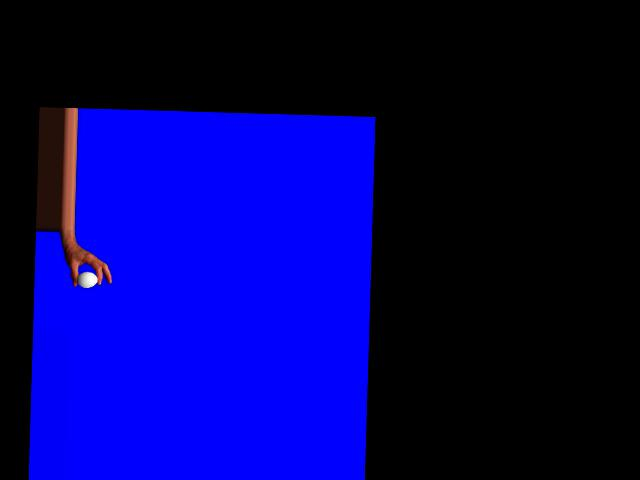egg: (76, 271, 97, 288)
